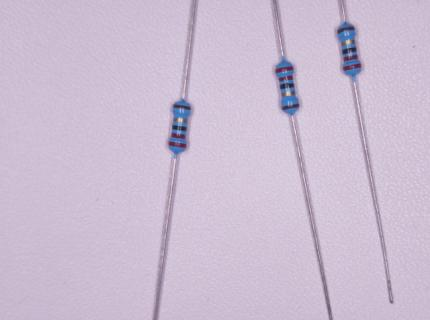Black band: (342, 47, 357, 55), (172, 125, 188, 131), (280, 83, 294, 89)
Brown band: (337, 26, 355, 34), (282, 103, 299, 111), (173, 104, 191, 110)
Gold band: (341, 39, 355, 46), (173, 117, 188, 123), (282, 91, 295, 97)
Red band: (343, 63, 362, 71), (275, 66, 294, 73), (169, 141, 187, 148), (171, 133, 186, 139), (278, 76, 293, 82), (343, 55, 358, 61)
